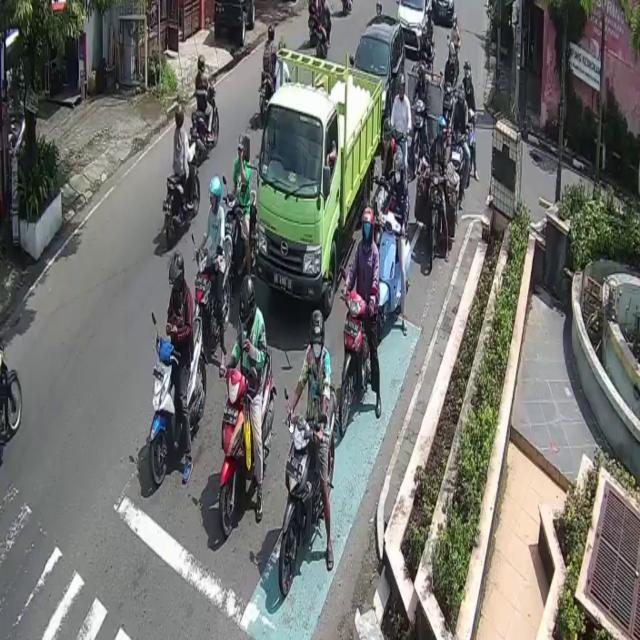bus: (279, 383, 339, 596), (148, 313, 208, 488), (221, 349, 276, 537), (339, 294, 380, 434), (190, 234, 233, 344), (376, 210, 409, 334), (164, 146, 201, 247), (221, 190, 256, 278), (192, 81, 222, 159), (428, 165, 447, 264), (412, 101, 430, 176), (448, 133, 467, 195)
motorcycle: (351, 14, 406, 142), (399, 0, 435, 57)
truck: (256, 45, 384, 313)
